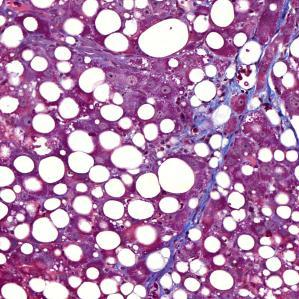fibrosis: (218, 77, 278, 113)
